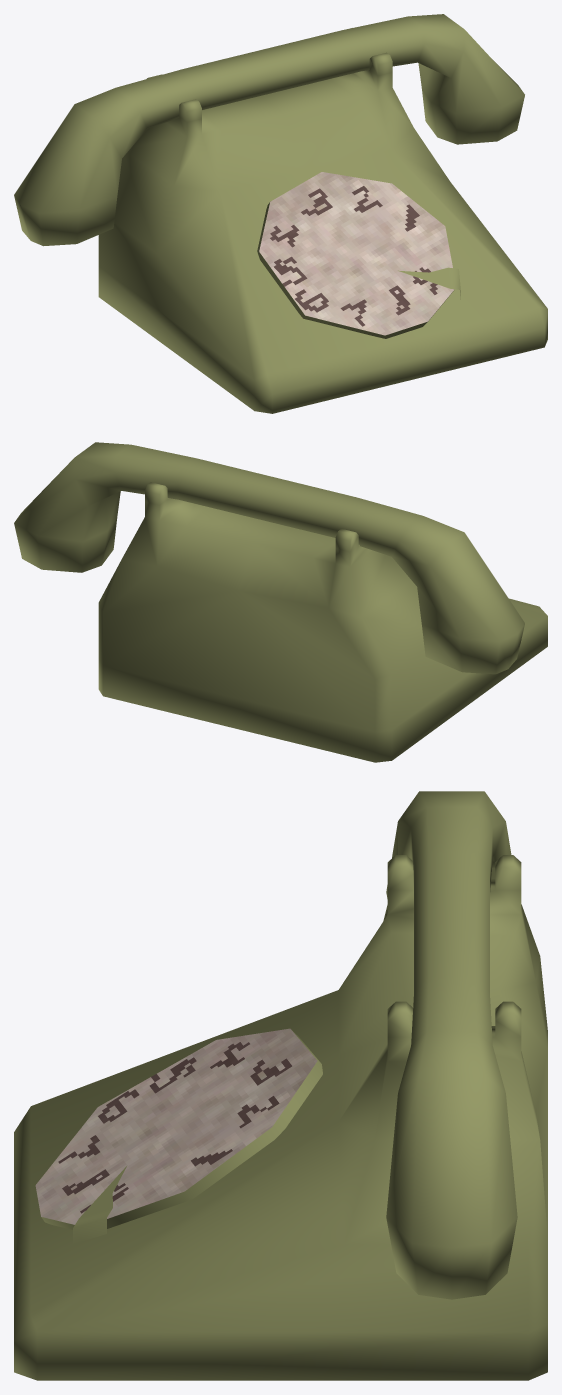
Rendered from phone.glb.
The picture shows the model from 3 angles, top to bottom: view 1: azimuth 30°, elevation 25°; view 2: azimuth 150°, elevation 25°; view 3: azimuth 270°, elevation 25°; orthographic projection. The views are drawn at different scales.
Parts seen in each view (by area): view 1: Base, Receiver; view 2: Base, Receiver; view 3: Base, Receiver.
Boxes of the visible parts, x1,y1,x2,y2 form: Base: (98, 28, 547, 413); Receiver: (14, 14, 524, 246); Base: (98, 482, 547, 762); Receiver: (14, 442, 524, 674); Base: (14, 855, 547, 1380); Receiver: (386, 791, 517, 1299).
Bounding box in the file's own units: 0.3383 × 0.1458 × 0.2.
Materials: 2 (1 with a texture image).
